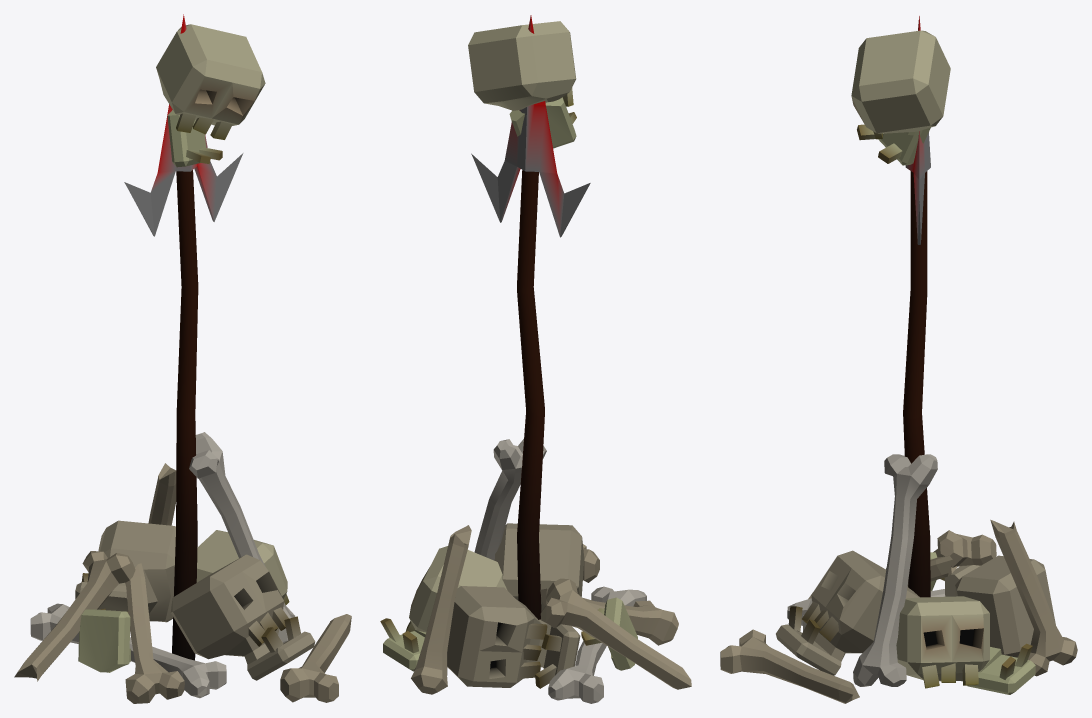
File: pila_de_caca.FBX
3 views of the same model, side by side, from view 1: azimuth 30°, elevation 25°; view 2: azimuth 150°, elevation 25°; view 3: azimuth 270°, elevation 25° (orthographic).
Parts seen in each view (by area): view 1: Box006; view 2: Box006; view 3: Box006.
Part boxes in pixels (x1,y1,x2,y2): Box006: [14, 14, 351, 703]; Box006: [380, 15, 691, 703]; Box006: [720, 16, 1077, 703].
Size of the model in its own units: 63.35 by 130 by 65.
